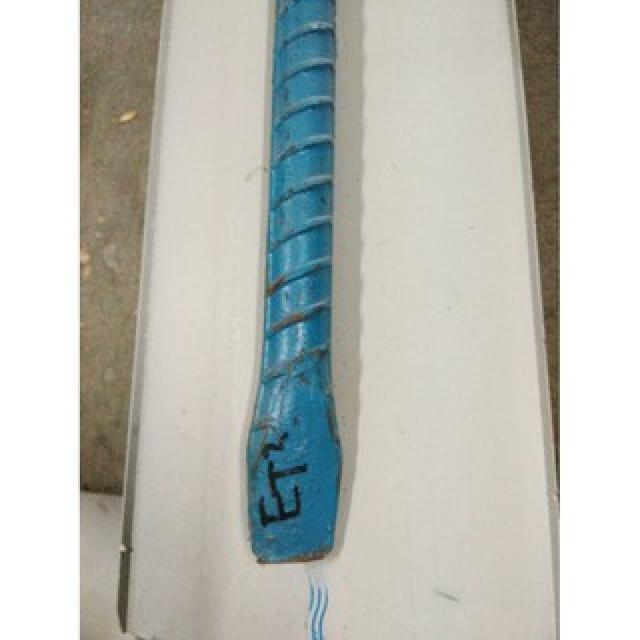Linggis: (241, 1, 356, 574)
